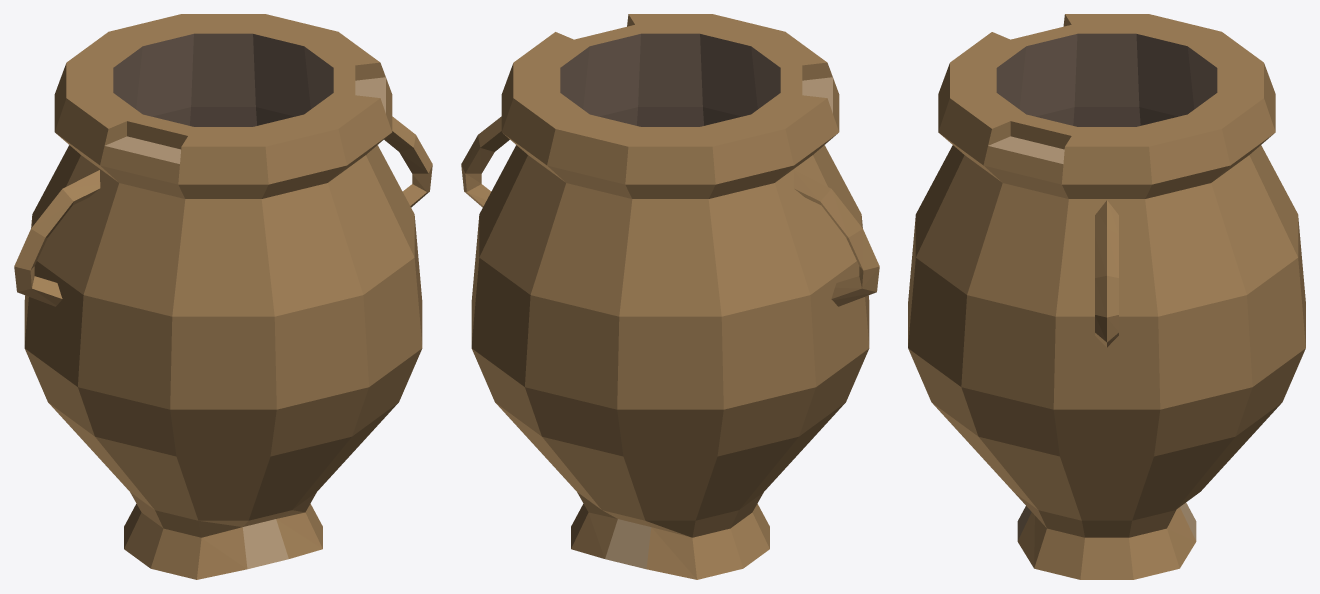
Rendered from clay-storage-pot-626452.glb.
3 renders of one model, left to right at view 1: azimuth 30°, elevation 25°; view 2: azimuth 150°, elevation 25°; view 3: azimuth 270°, elevation 25°, orthographic.
Visible parts, largest first — view 1: clay-storage-pot-mesh; view 2: clay-storage-pot-mesh; view 3: clay-storage-pot-mesh.
Boxes of the visible parts, bbox=[...] form: clay-storage-pot-mesh: bbox=[14, 14, 432, 579]; clay-storage-pot-mesh: bbox=[461, 14, 879, 579]; clay-storage-pot-mesh: bbox=[908, 14, 1305, 579].
Bounding box in the file's own units: 0.4787 × 0.5 × 0.3941.
